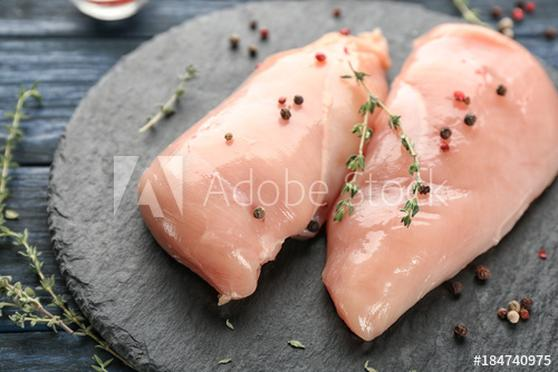chicken_fillet: (326, 16, 558, 340), (138, 28, 392, 301)
